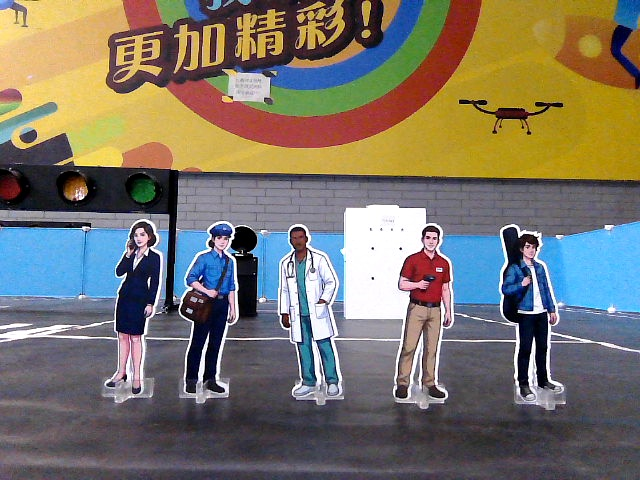community_person: (490, 217, 578, 417), (270, 218, 351, 411), (176, 214, 254, 410), (94, 213, 169, 408), (389, 217, 461, 412)
